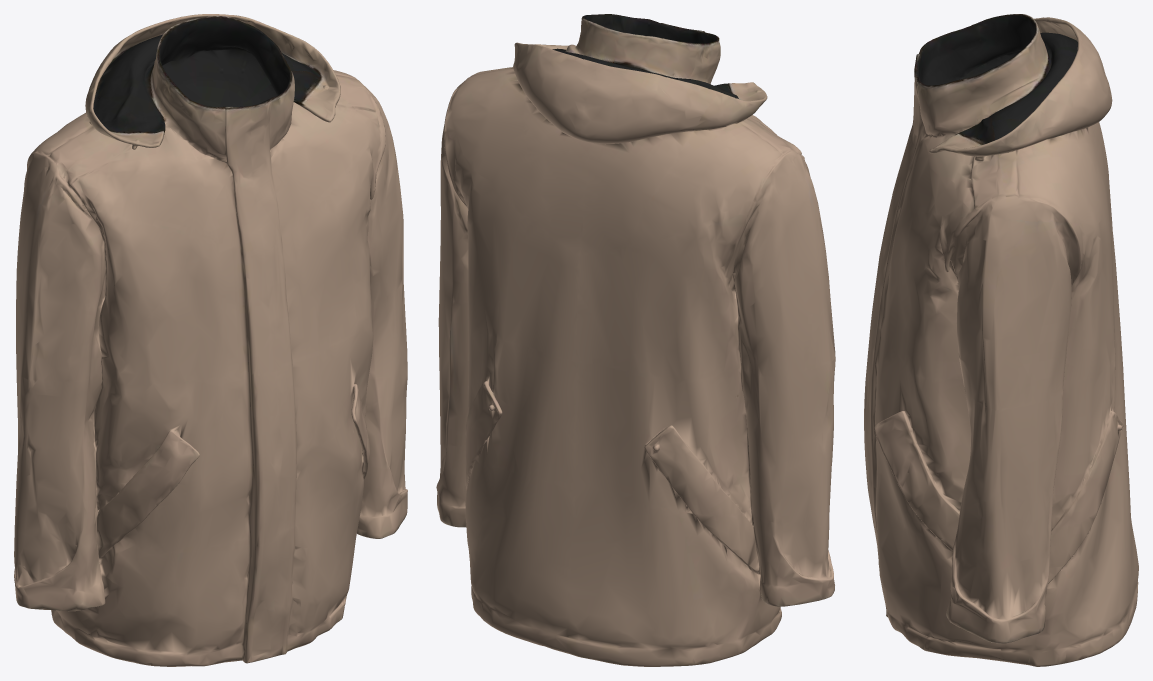
3 views of the same model, side by side, from view 1: azimuth 30°, elevation 25°; view 2: azimuth 150°, elevation 25°; view 3: azimuth 270°, elevation 25° (orthographic). The views are drawn at different scales.
Parts seen in each view (by area): view 1: tripo_node_2020c37b-cbf1-4ea2-944c-80299e29dc45; view 2: tripo_node_2020c37b-cbf1-4ea2-944c-80299e29dc45; view 3: tripo_node_2020c37b-cbf1-4ea2-944c-80299e29dc45.
Boxes of the visible parts, box(x1,y1,x2,y2) form: tripo_node_2020c37b-cbf1-4ea2-944c-80299e29dc45: box(14, 14, 407, 666); tripo_node_2020c37b-cbf1-4ea2-944c-80299e29dc45: box(436, 14, 835, 666); tripo_node_2020c37b-cbf1-4ea2-944c-80299e29dc45: box(864, 14, 1138, 666).
Size of the model in its own units: 0.6933 by 1 by 0.4286.
1 material, 1 textured.
